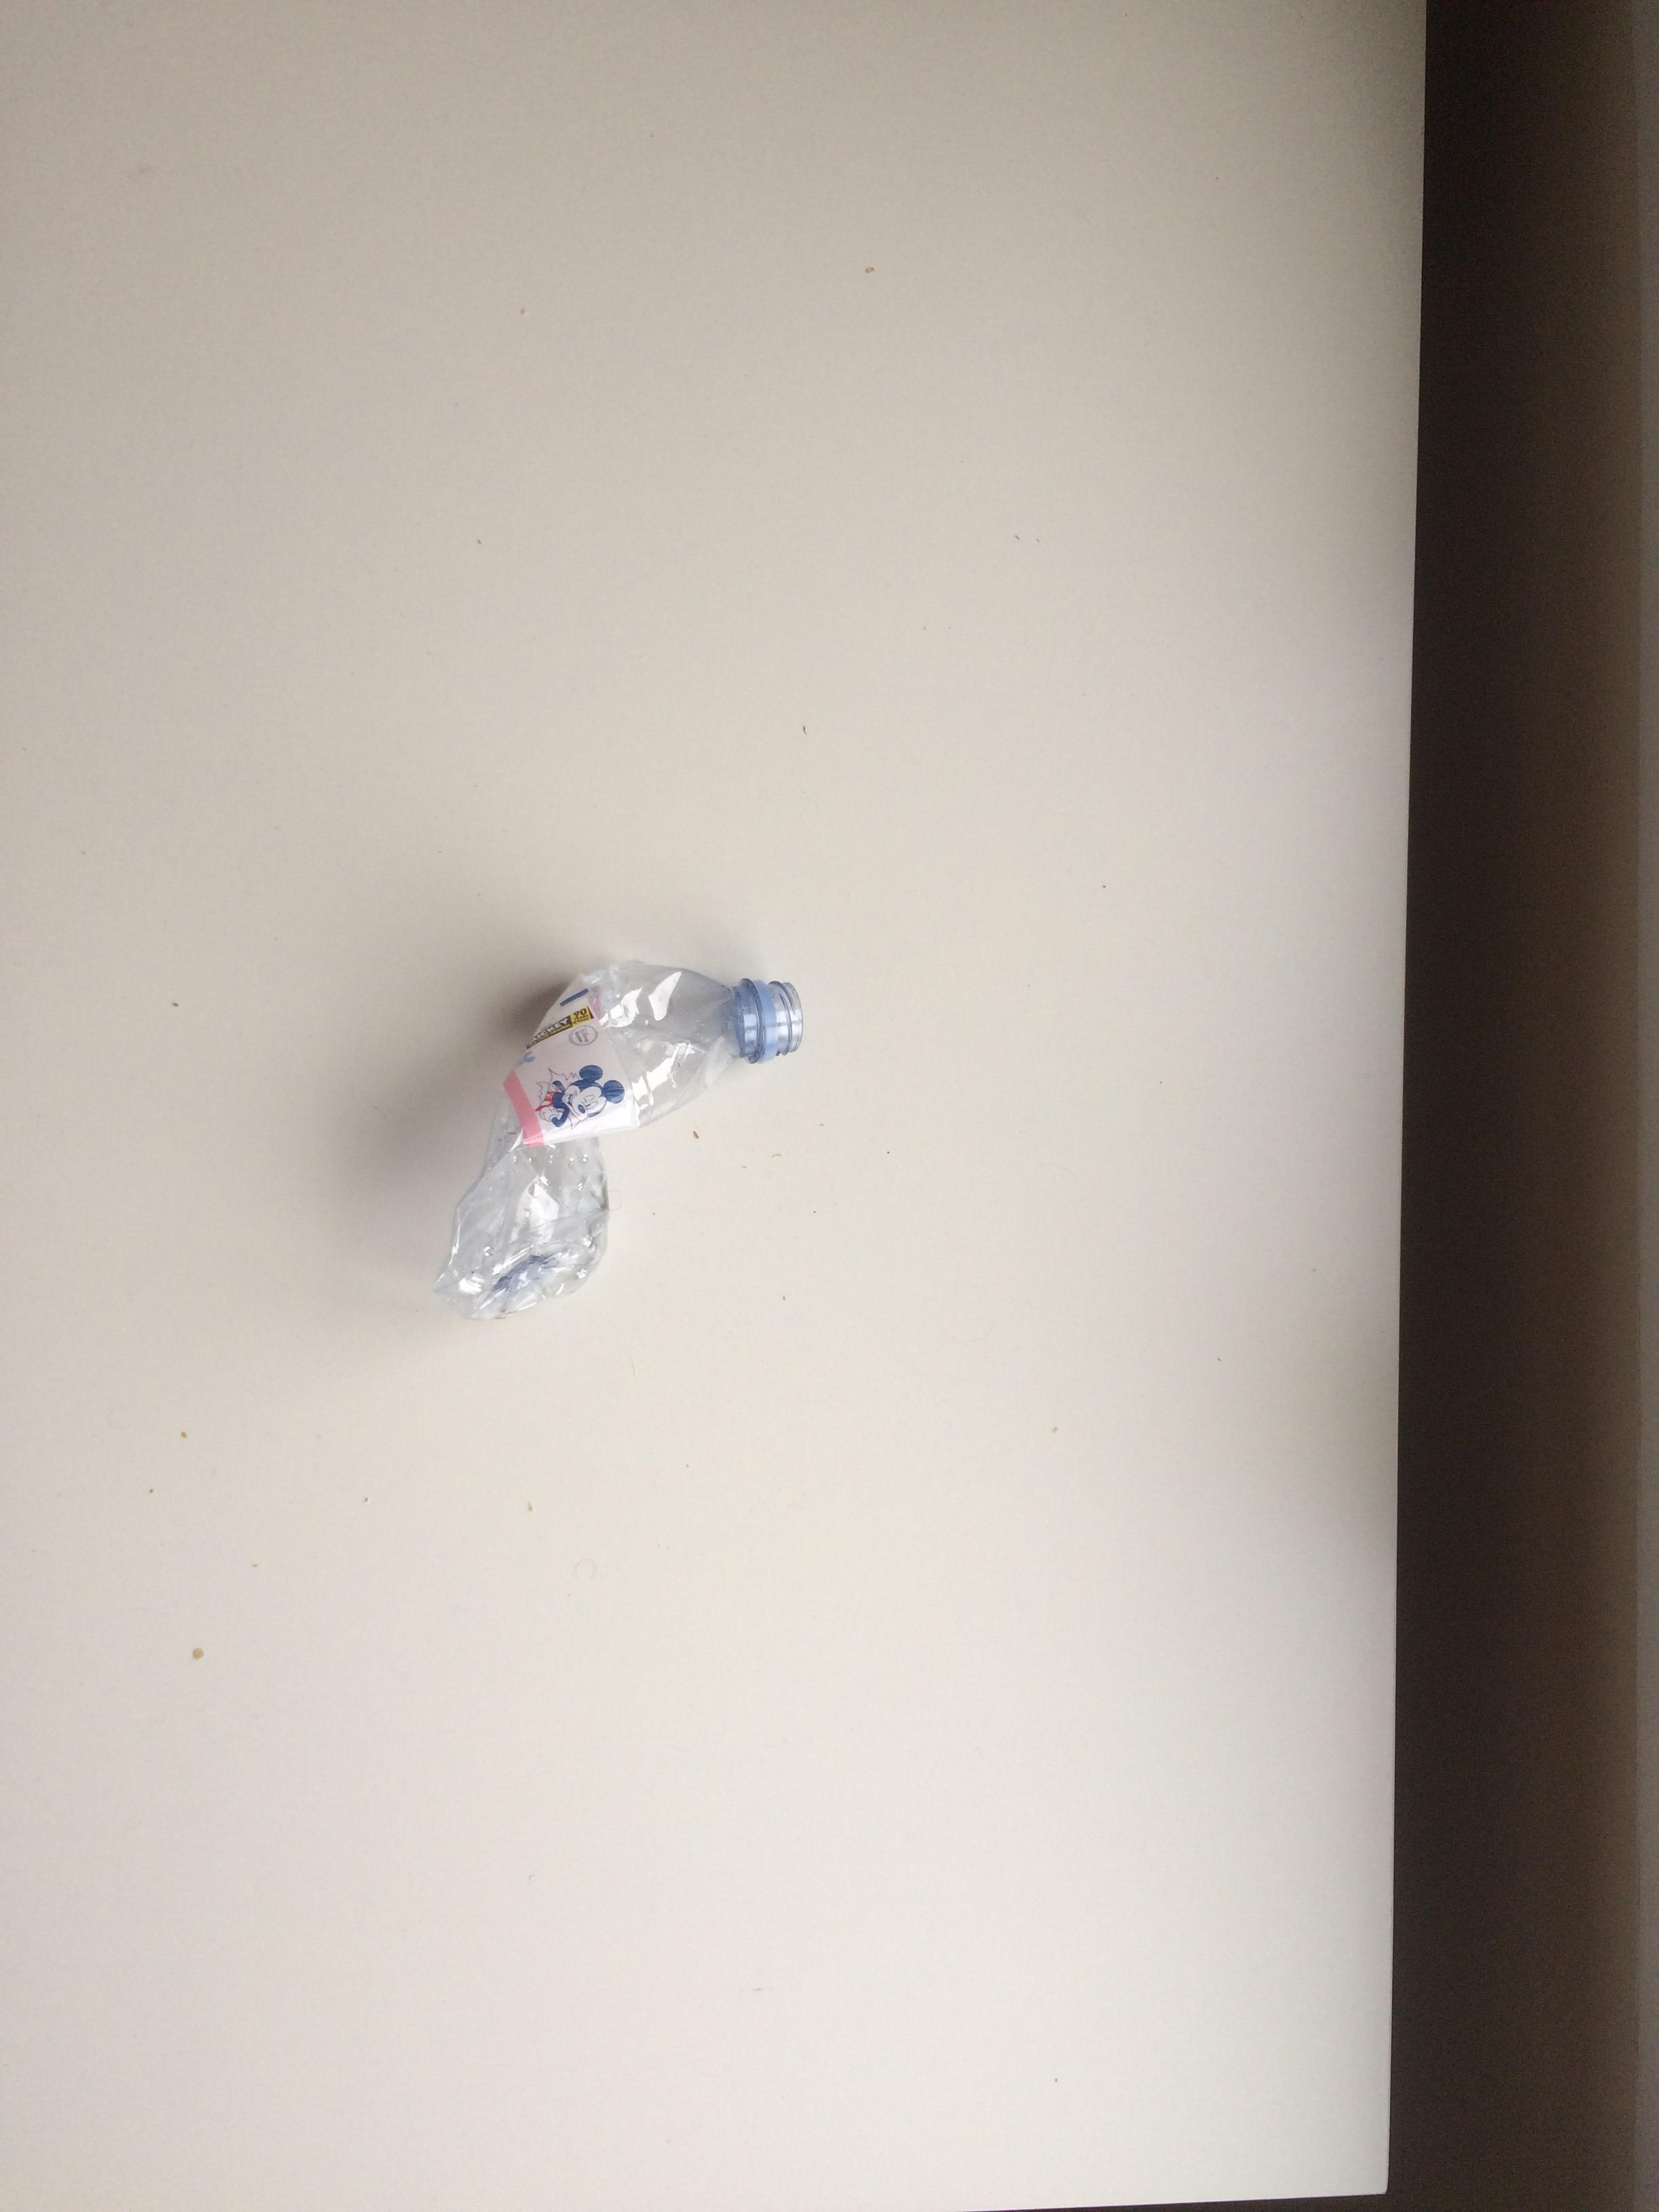Trash: (432, 958, 812, 1325)
